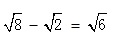sqrt: (41, 10, 62, 35), (2, 11, 22, 33), (88, 11, 108, 32)
